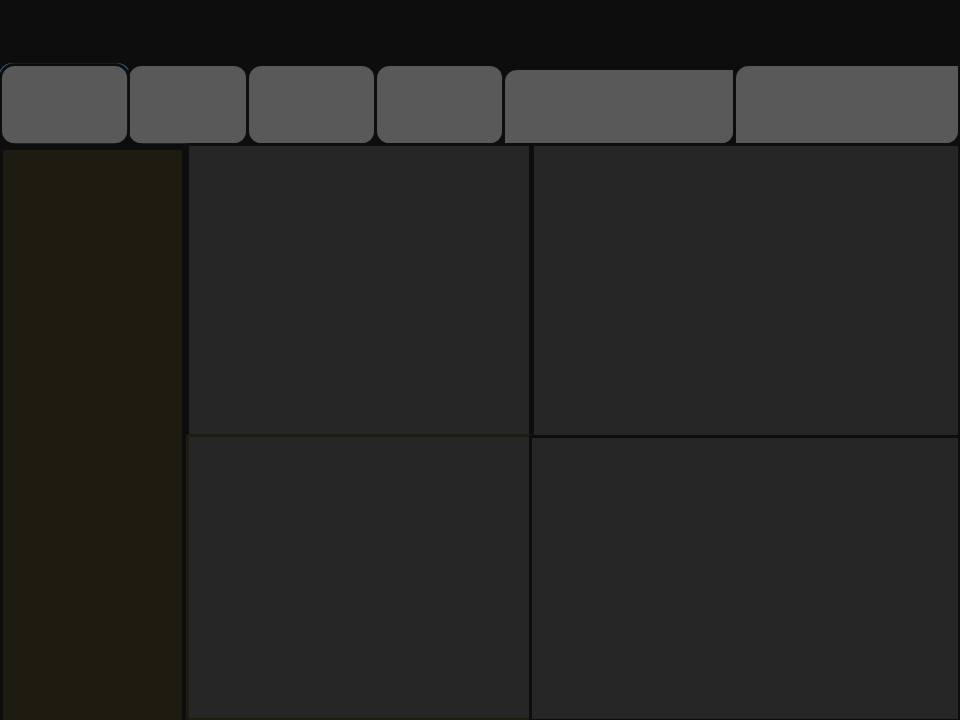

The page's visual inventory and layout, read from the dashboard file:
{"tool":"powerbi","page":{"name":"Page 1","canvas":[1280,720],"ordinal":0},"visuals":[{"type":"card","fields":{"Values":["Sum(world_population.World Population Percentage)"]},"box":[663,66.7,232.1,73.7],"z":0},{"type":"columnChart","fields":{"Category":["world_population.Country/Territory"],"Y":["Sum(world_population.Area (km²))"]},"box":[690.8,147.3,428.1,287.7],"z":1000},{"type":"lineStackedColumnComboChart","title":" Population and its Annual Growth Rate ","fields":{"Category":["world_population.Country/Territory"],"Y":["Sum(world_population.2022 Population)","Sum(world_population.Growth Rate)"]},"box":[692.2,429.1,429.1,290.3],"z":2000},{"type":"columnChart","fields":{"Y":["Sum(world_population.Density (per km²))"],"Category":["world_population.Country/Territory"]},"box":[348.9,145.9,344.7,289.1],"z":3000},{"type":"slicer","fields":{"Values":["world_population.Continent"]},"box":[162.6,58.4,123.7,82],"z":4000},{"type":"textbox","box":[153,0,968.2,67.2],"z":5000},{"type":"slicer","fields":{"Values":["world_population.Continent"]},"box":[175.1,140.4,171,571.3],"z":6000},{"type":"card","fields":{"Values":["Count(world_population.Continent)"]},"box":[397.5,62.5,130.7,83.4],"z":7000},{"type":"card","fields":{"Values":["CountNonNull(world_population.Country/Territory)"]},"box":[286.3,58.4,118.1,83.4],"z":8000},{"type":"card","fields":{"Values":["Max(world_population.Rank)"]},"box":[528.2,58.4,134.8,83.4],"z":9000},{"type":"card","fields":{"Values":["Sum(world_population.2022 Population)"]},"box":[893.7,61.2,225.2,87.6],"z":10000},{"type":"filledMap","title":"2022 Population by Continent","fields":{"Category":["world_population.Continent"]},"box":[336.4,435.1,355.8,284.9],"z":11000}]}

Visuals, with their boxes on the page's 1280x720 design canvas (x1, y1, x2, y2). These are canvas units, not pixel positions in the 960x720 screenshot, which may show the page scaled, cropped or inside an application window:
card - Sum(world_population.World Population Percentage): box(663, 67, 895, 140)
columnChart - world_population.Country/Territory x Sum(world_population.Area (km²)): box(691, 147, 1119, 435)
" Population and its Annual Growth Rate " lineStackedColumnComboChart: box(692, 429, 1121, 719)
columnChart - Sum(world_population.Density (per km²)) x world_population.Country/Territory: box(349, 146, 694, 435)
slicer - world_population.Continent: box(163, 58, 286, 140)
textbox: box(153, 0, 1121, 67)
slicer - world_population.Continent: box(175, 140, 346, 712)
card - Count(world_population.Continent): box(398, 62, 528, 146)
card - CountNonNull(world_population.Country/Territory): box(286, 58, 404, 142)
card - Max(world_population.Rank): box(528, 58, 663, 142)
card - Sum(world_population.2022 Population): box(894, 61, 1119, 149)
"2022 Population by Continent" filledMap: box(336, 435, 692, 720)
